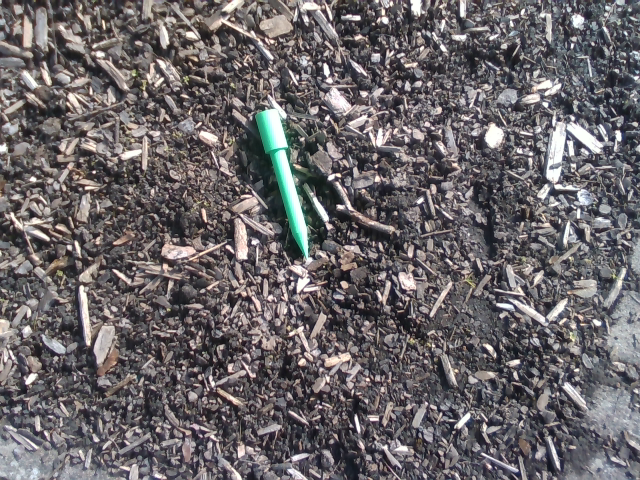Probe: (251, 104, 313, 266)
